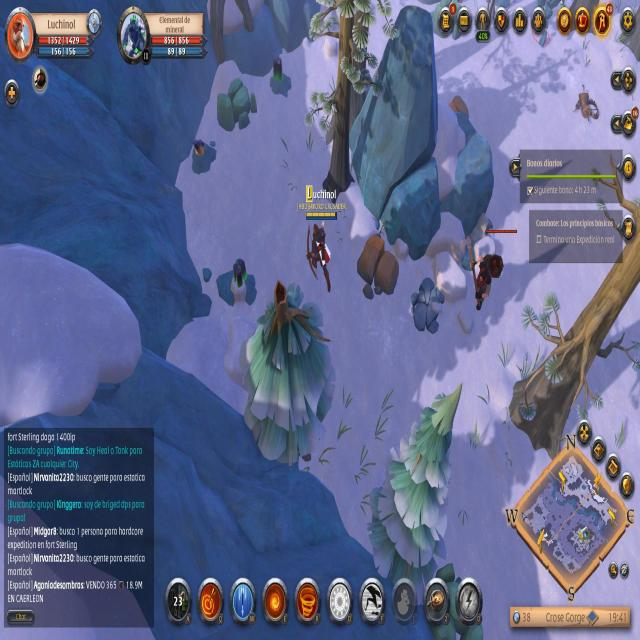piedra_cobre: (190, 132, 216, 178)
